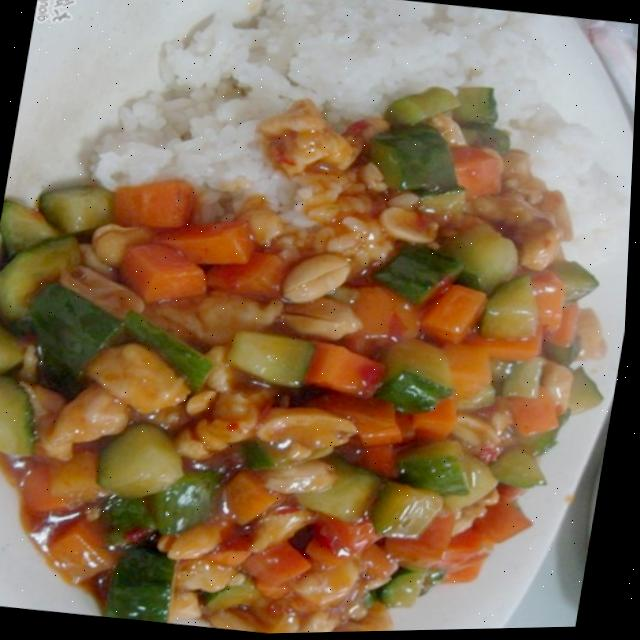鸡肉料理 含炸鸡: (0, 4, 639, 640)
